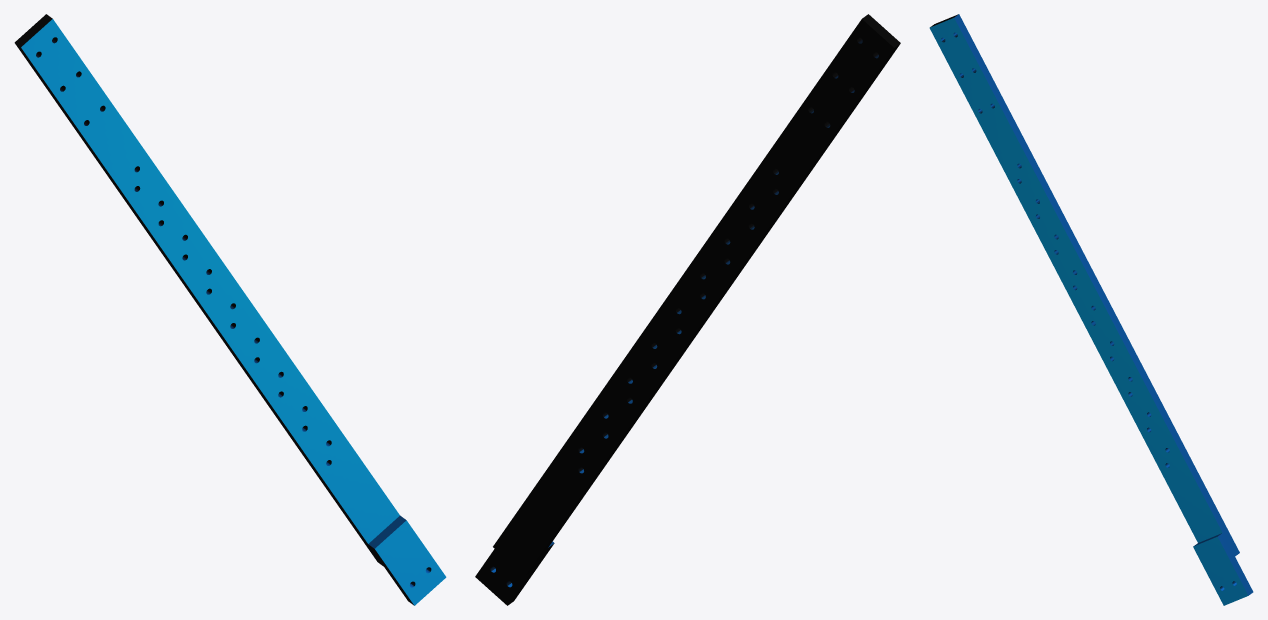
The model's file is Step10.FBX.
3 renders of one model, left to right at view 1: azimuth 30°, elevation 25°; view 2: azimuth 150°, elevation 25°; view 3: azimuth 330°, elevation 25°, orthographic. The views are drawn at different scales.
Visible parts, largest first — view 1: part38; view 2: part38; view 3: part38.
Part boxes in pixels (x1,y1,x2,y2): part38: [14, 14, 446, 605]; part38: [475, 14, 900, 605]; part38: [929, 14, 1253, 605].
Bounding box in the file's own units: 70.68 × 108 × 3.81.
Materials: 1 (1 with a texture image).
